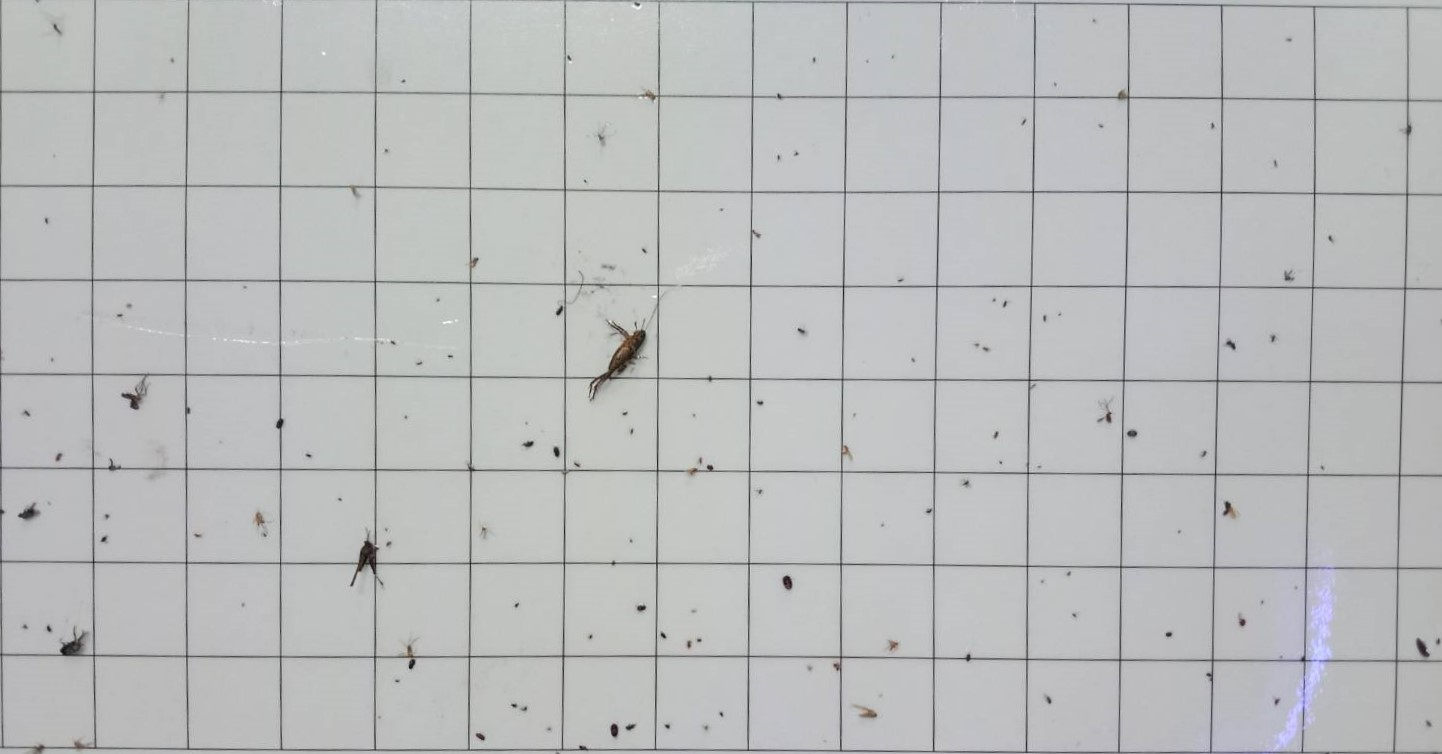fly: (55, 623, 92, 658), (15, 496, 44, 524)
test: (582, 314, 657, 404), (349, 533, 383, 592), (118, 371, 158, 411), (1220, 499, 1240, 522), (1414, 636, 1431, 662), (858, 704, 880, 722), (252, 509, 269, 531), (1097, 406, 1115, 424), (839, 443, 855, 462), (641, 87, 659, 103), (71, 738, 91, 752), (106, 456, 123, 472), (781, 574, 795, 593), (348, 184, 362, 202), (1224, 337, 1239, 353), (51, 21, 65, 37), (404, 640, 416, 658), (609, 722, 621, 740), (273, 416, 287, 431), (1281, 269, 1296, 283), (467, 255, 481, 270), (887, 639, 900, 655), (636, 602, 650, 616), (522, 438, 538, 450), (554, 303, 566, 319), (52, 450, 66, 463), (1116, 88, 1130, 101), (751, 227, 764, 241), (33, 742, 48, 754), (625, 721, 638, 734), (596, 132, 608, 146), (552, 444, 563, 459), (21, 407, 33, 420), (99, 534, 111, 547), (474, 731, 487, 743), (1126, 427, 1139, 439), (1204, 671, 1216, 684), (1238, 616, 1249, 630), (1402, 123, 1413, 137), (688, 466, 700, 478), (191, 531, 205, 541), (577, 743, 591, 753), (464, 461, 476, 472), (832, 662, 844, 673), (1268, 333, 1280, 344), (1027, 382, 1039, 393), (407, 658, 417, 671), (796, 326, 809, 336), (183, 405, 194, 416), (388, 337, 399, 348), (1164, 629, 1175, 640), (572, 459, 584, 469), (685, 639, 695, 651), (1326, 233, 1336, 245), (114, 310, 125, 320), (125, 300, 135, 311), (303, 450, 314, 460), (662, 721, 672, 732), (961, 477, 972, 487), (982, 343, 992, 354), (1273, 697, 1283, 708), (1284, 35, 1295, 45), (1019, 116, 1029, 127), (993, 429, 1002, 441), (1424, 718, 1433, 730), (512, 601, 522, 611), (660, 631, 670, 641), (805, 664, 815, 674), (20, 623, 31, 632), (705, 463, 716, 472), (697, 455, 706, 466), (756, 398, 767, 407), (964, 652, 973, 663), (925, 505, 934, 516), (1045, 695, 1054, 706), (1200, 448, 1209, 459), (775, 92, 786, 101), (775, 152, 784, 163), (566, 53, 575, 64), (45, 624, 54, 634), (239, 601, 249, 610), (509, 701, 519, 710), (479, 526, 488, 536), (717, 710, 726, 720), (756, 486, 765, 496), (1318, 462, 1327, 472), (640, 246, 649, 256), (897, 275, 906, 285), (610, 559, 618, 570), (1001, 299, 1009, 310), (1041, 313, 1049, 324), (1271, 158, 1279, 169), (1209, 120, 1217, 131), (102, 512, 111, 521), (415, 359, 424, 368), (446, 351, 455, 360), (521, 705, 530, 714), (628, 426, 637, 435), (690, 607, 699, 616), (909, 355, 918, 364), (1065, 570, 1074, 579), (1299, 655, 1308, 664), (1175, 528, 1184, 537), (810, 55, 819, 64), (42, 216, 51, 225), (168, 56, 177, 65), (385, 540, 393, 550), (588, 633, 596, 643), (1434, 637, 1442, 647), (48, 355, 56, 365), (695, 637, 704, 645), (973, 340, 982, 348), (1096, 122, 1105, 130), (793, 150, 801, 159), (546, 725, 554, 733), (621, 409, 629, 417), (691, 411, 699, 419), (851, 410, 859, 418), (1056, 310, 1064, 318), (1070, 611, 1078, 619), (1258, 599, 1266, 607), (1090, 17, 1098, 25), (1051, 80, 1059, 88), (1039, 578, 1047, 586), (399, 77, 407, 85), (582, 177, 590, 185), (634, 2, 642, 10), (703, 723, 710, 732), (707, 374, 714, 383), (628, 537, 635, 546), (864, 57, 871, 66), (336, 495, 343, 503), (402, 413, 410, 420), (393, 677, 401, 684), (1037, 464, 1045, 471), (890, 53, 897, 61), (718, 206, 726, 213), (382, 147, 390, 154), (434, 296, 441, 304), (998, 458, 1004, 466), (991, 297, 997, 304), (881, 523, 887, 530)
